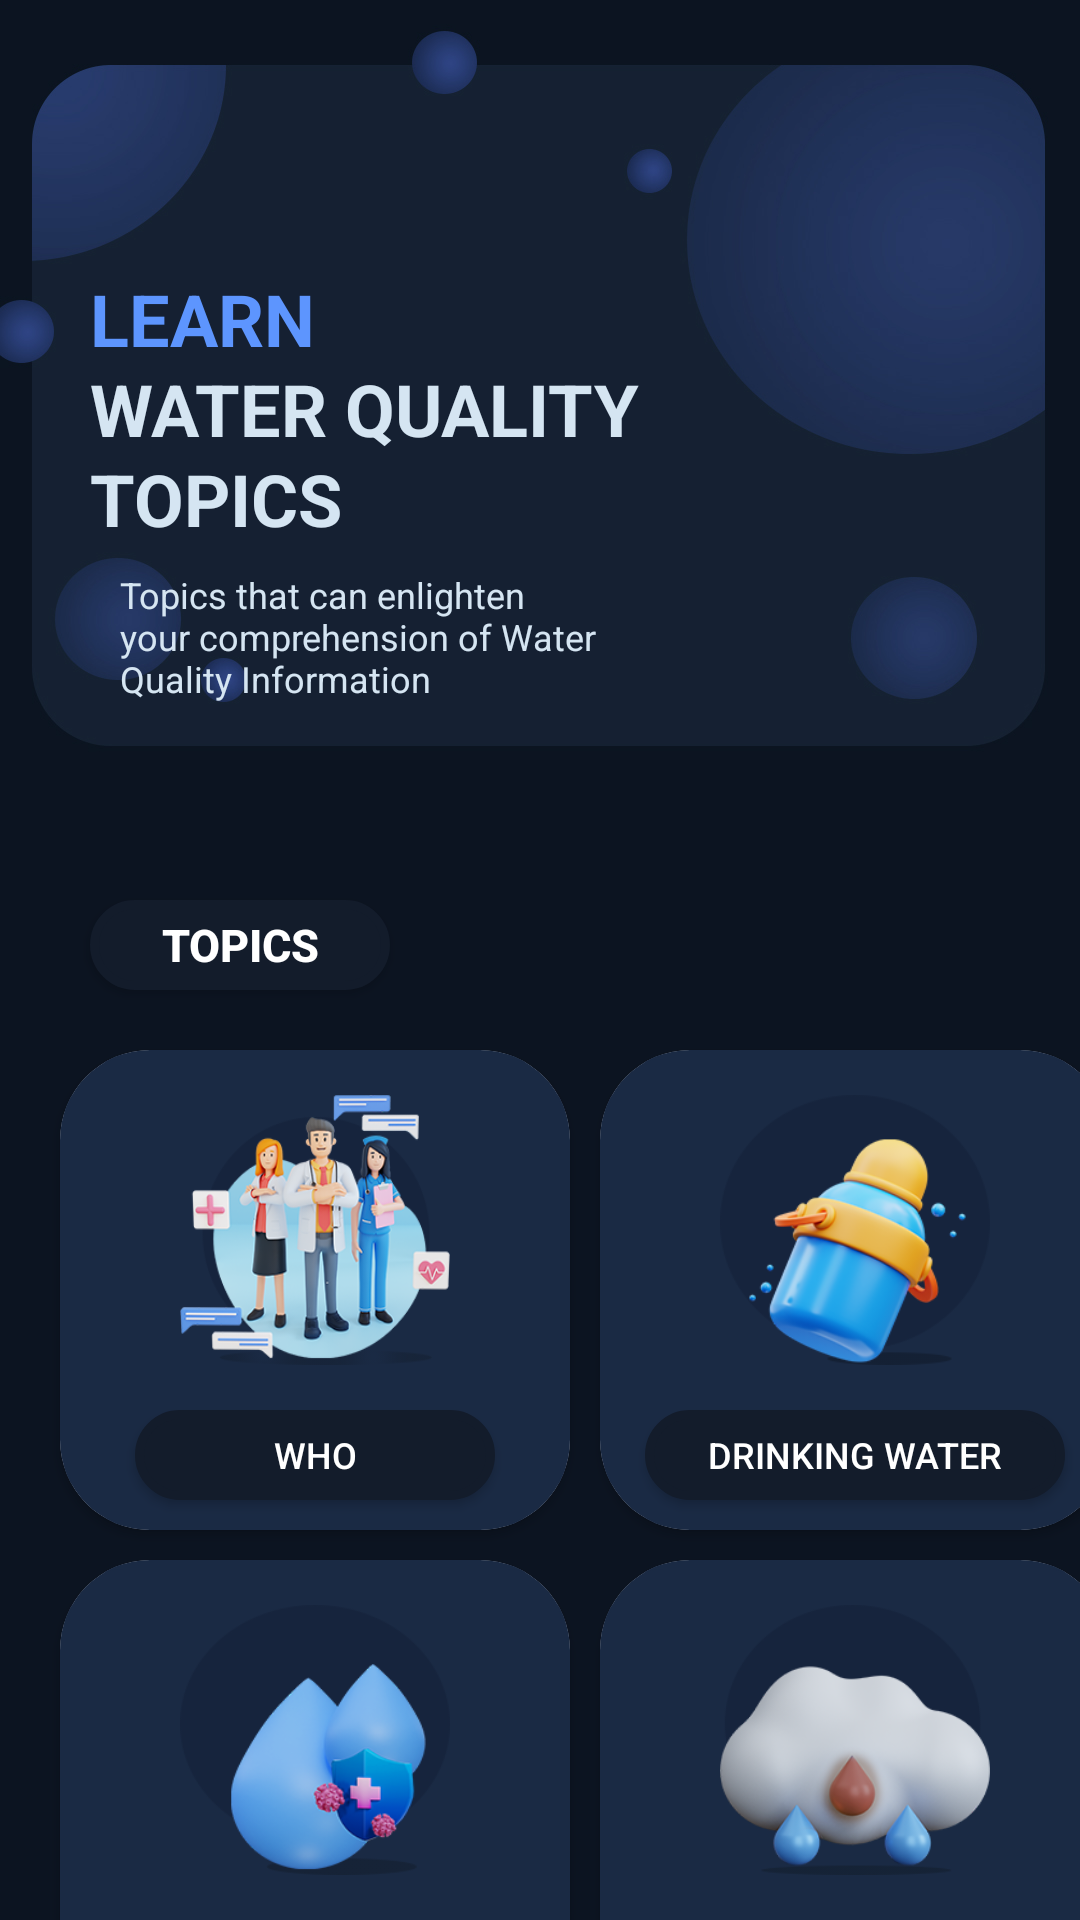

Where icons sit on this 1080w x 1920h app screen, as (x1, y1, x2, y2):
pollution: (720, 1666, 990, 1865)
water borne: (231, 1664, 426, 1869)
water bottle: (749, 1139, 966, 1363)
